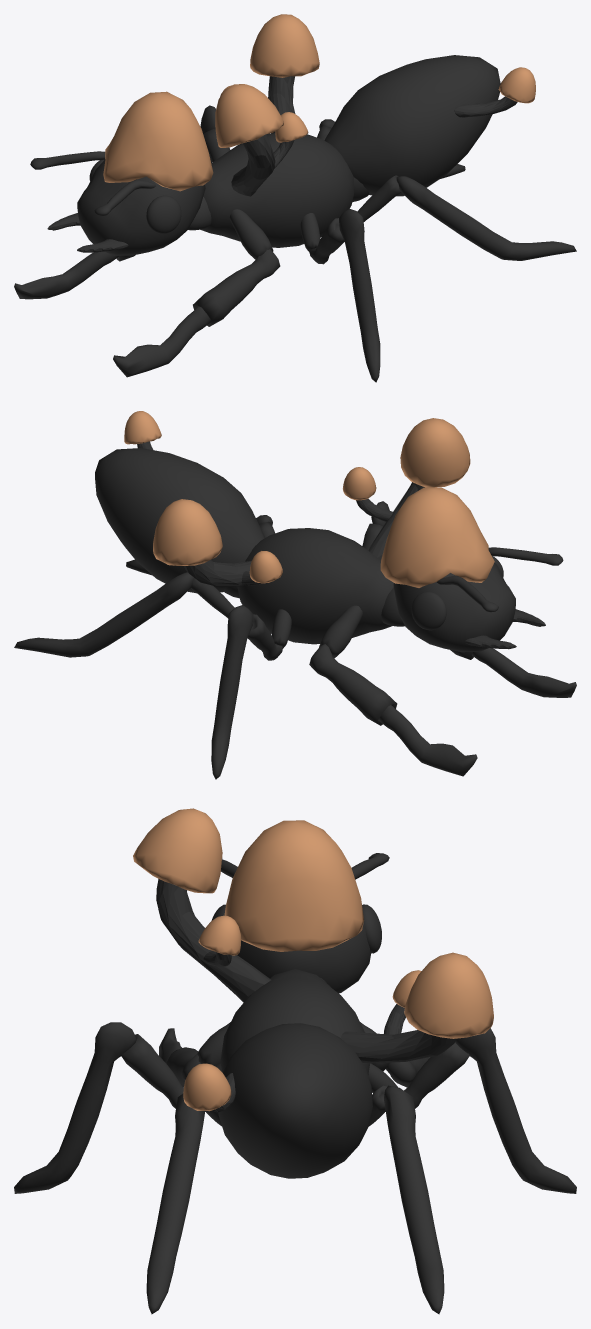
File: mrufka mag.fbx
3 renders of one model, top to bottom at view 1: azimuth 30°, elevation 25°; view 2: azimuth 150°, elevation 25°; view 3: azimuth 270°, elevation 25°, orthographic. The views are drawn at different scales.
Parts seen in each view (by area): view 1: Icosphere.092; view 2: Icosphere.092; view 3: Icosphere.092.
Boxes of the visible parts, bbox=[...] form: Icosphere.092: bbox=[14, 14, 576, 382]; Icosphere.092: bbox=[14, 411, 576, 779]; Icosphere.092: bbox=[14, 808, 576, 1314].
Size of the model in its own units: 725 by 399 by 598.
